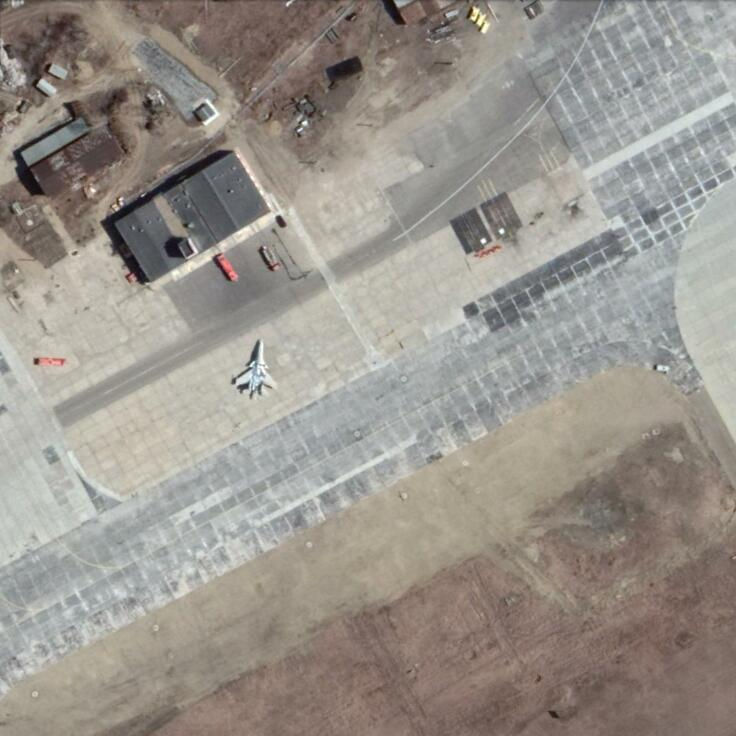A19: (231, 339, 279, 401)
